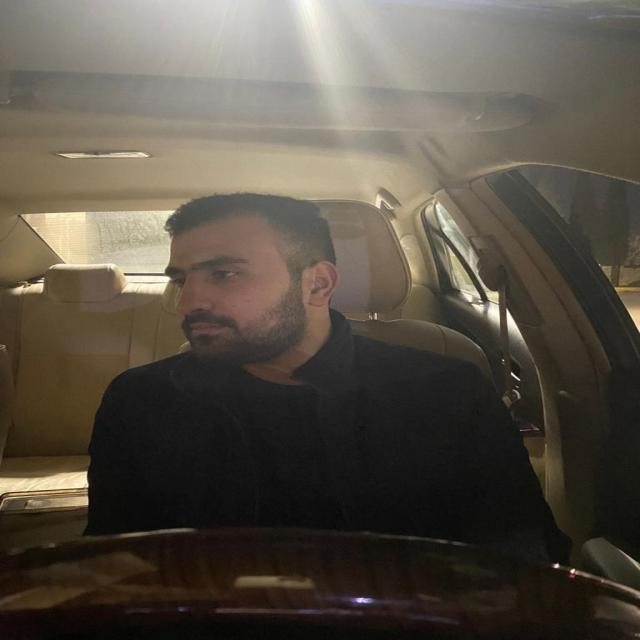person: (154, 184, 352, 378)
